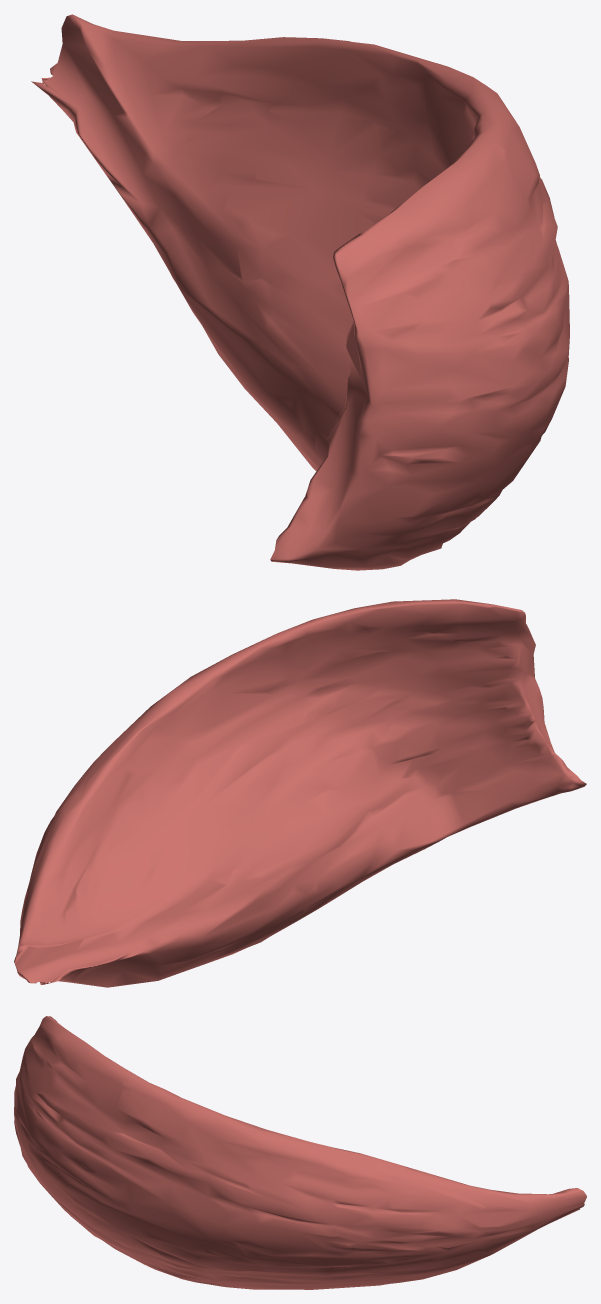
3 renders of one model, top to bottom at view 1: azimuth 30°, elevation 25°; view 2: azimuth 150°, elevation 25°; view 3: azimuth 270°, elevation 25°, orthographic. The views are drawn at different scales.
Visible parts, largest first — view 1: 左侧三角肌肩峰部; view 2: 左侧三角肌肩峰部; view 3: 左侧三角肌肩峰部.
Boxes of the visible parts, x1,y1,x2,y2 form: 左侧三角肌肩峰部: (31, 14, 569, 570); 左侧三角肌肩峰部: (14, 599, 586, 987); 左侧三角肌肩峰部: (14, 1016, 586, 1289).
Size of the model in its own units: 0.1112 by 0.0934 by 0.2175.
